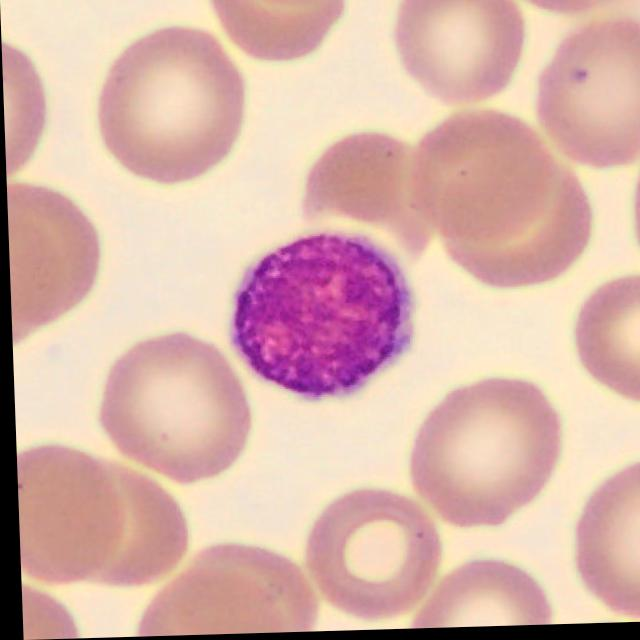Linfocito: (234, 238, 406, 397)
